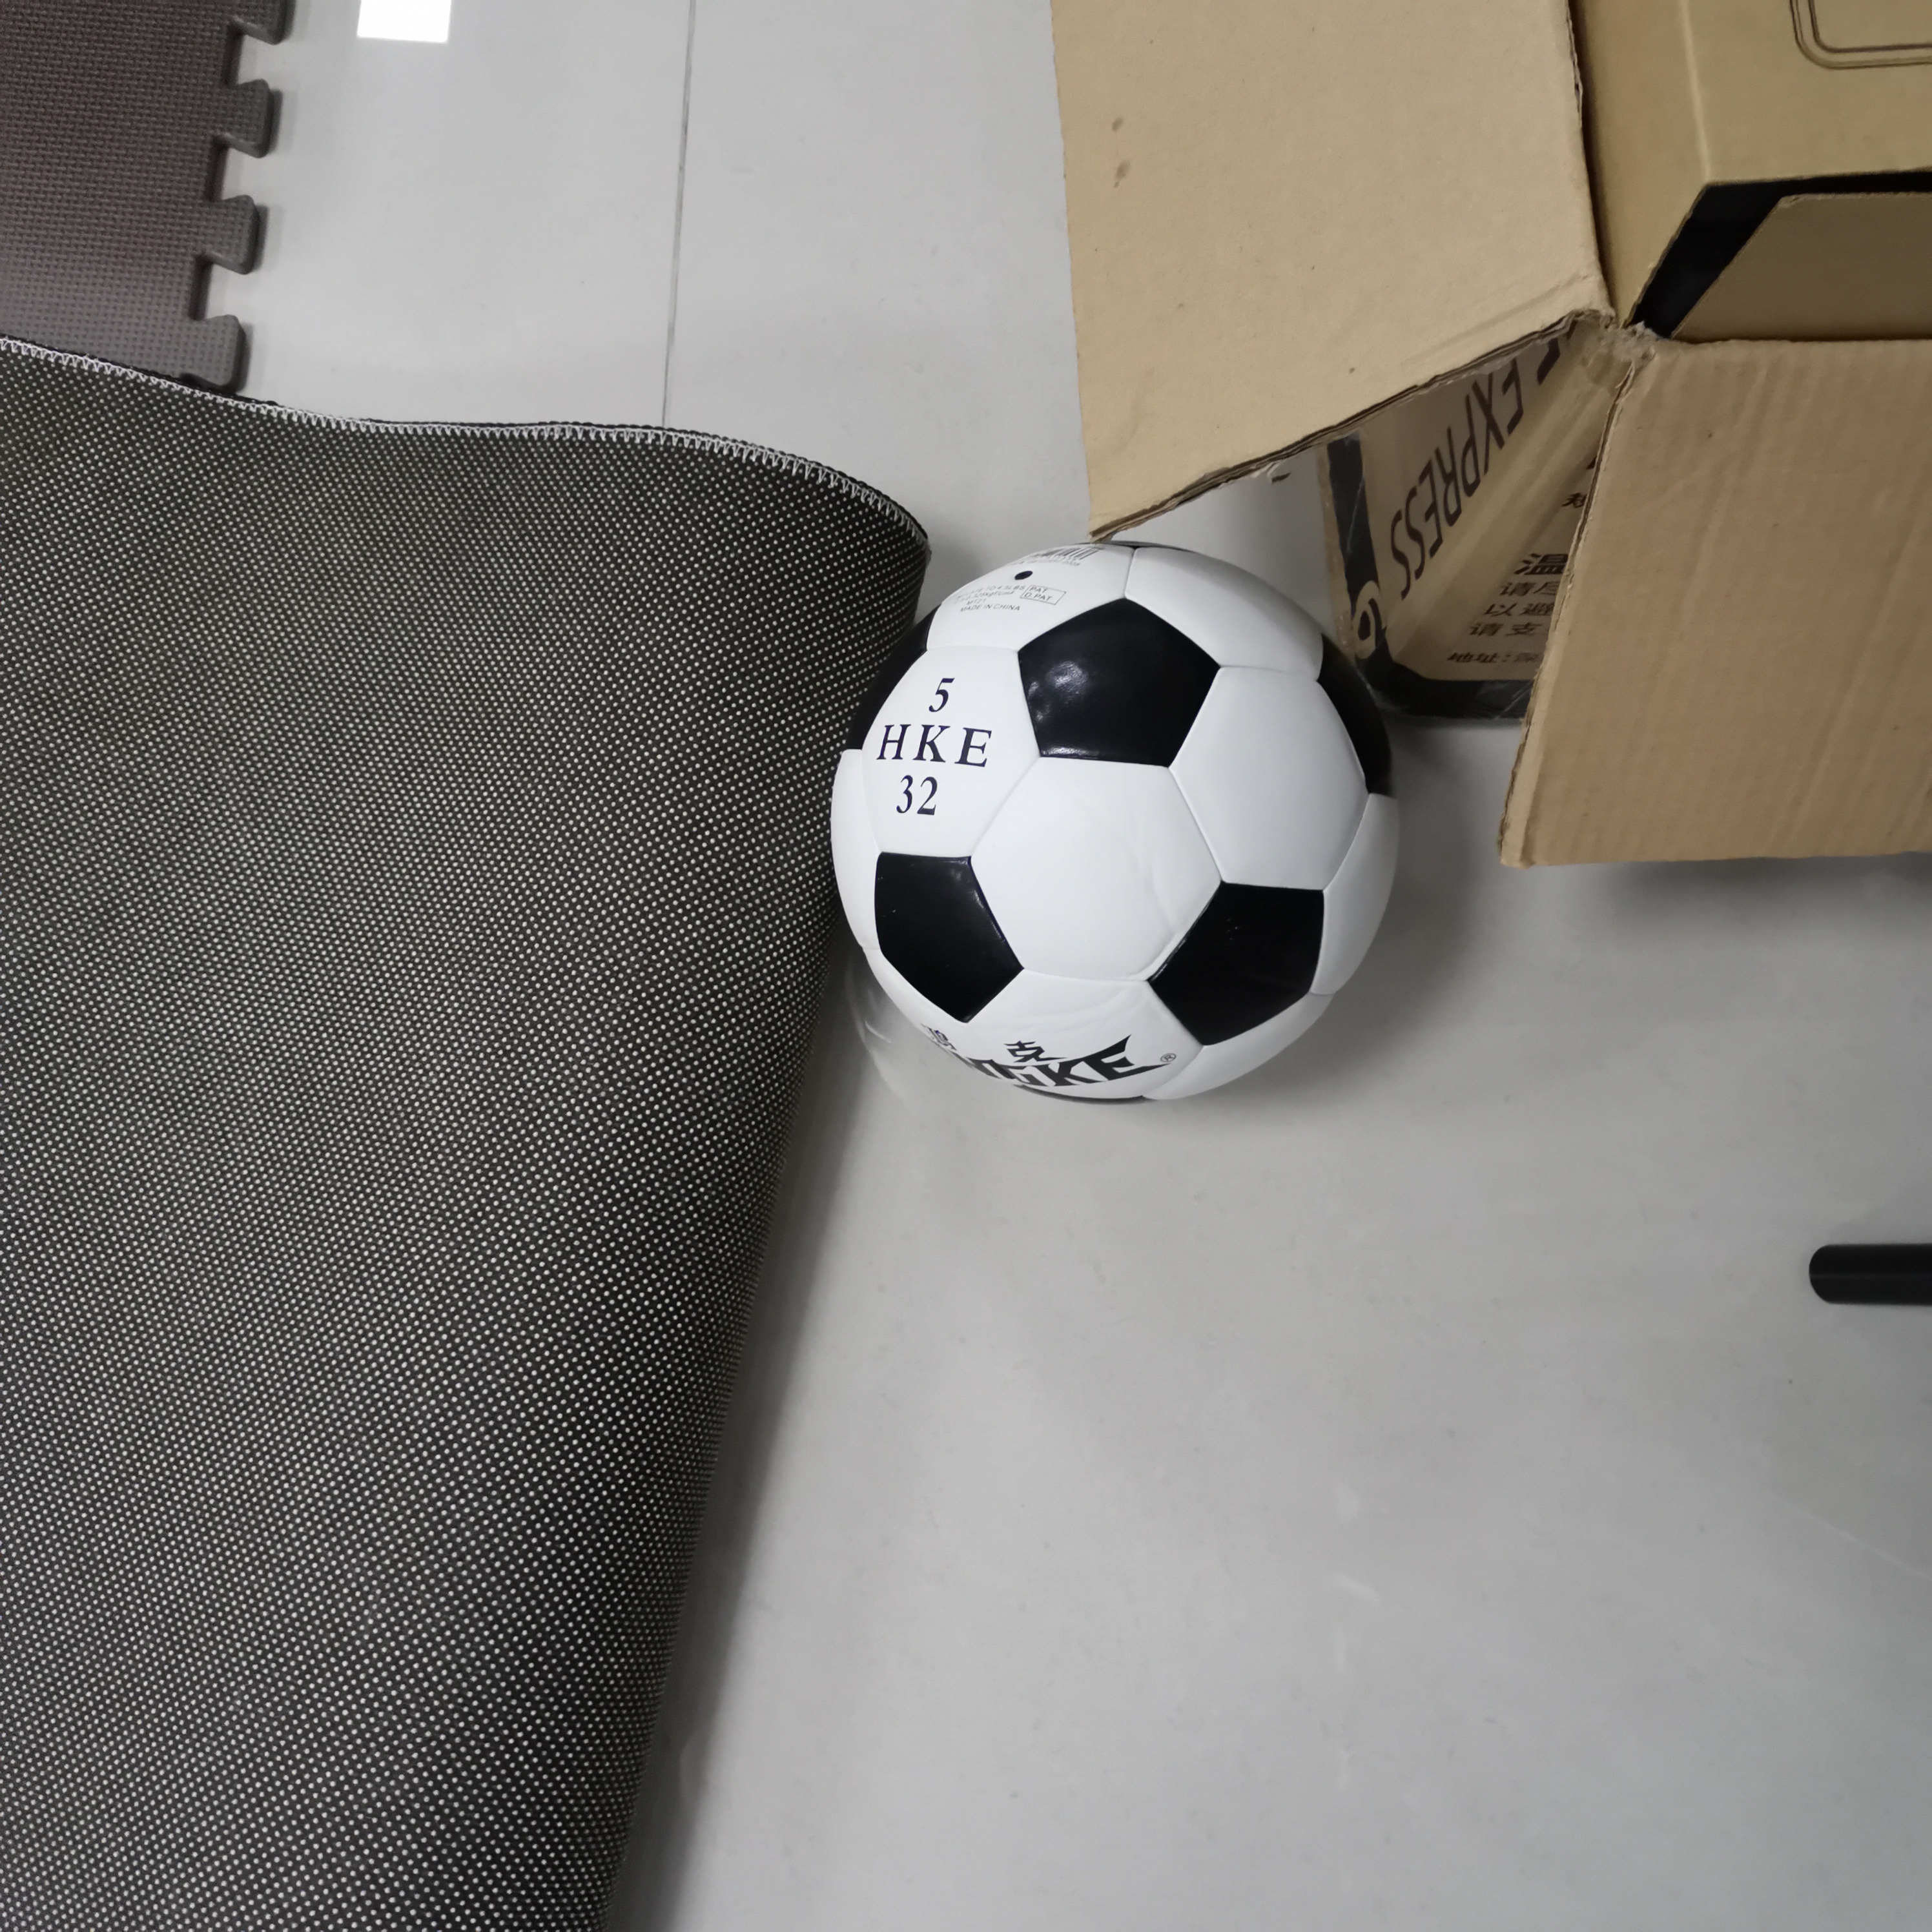football: (816, 534, 1403, 1113)
